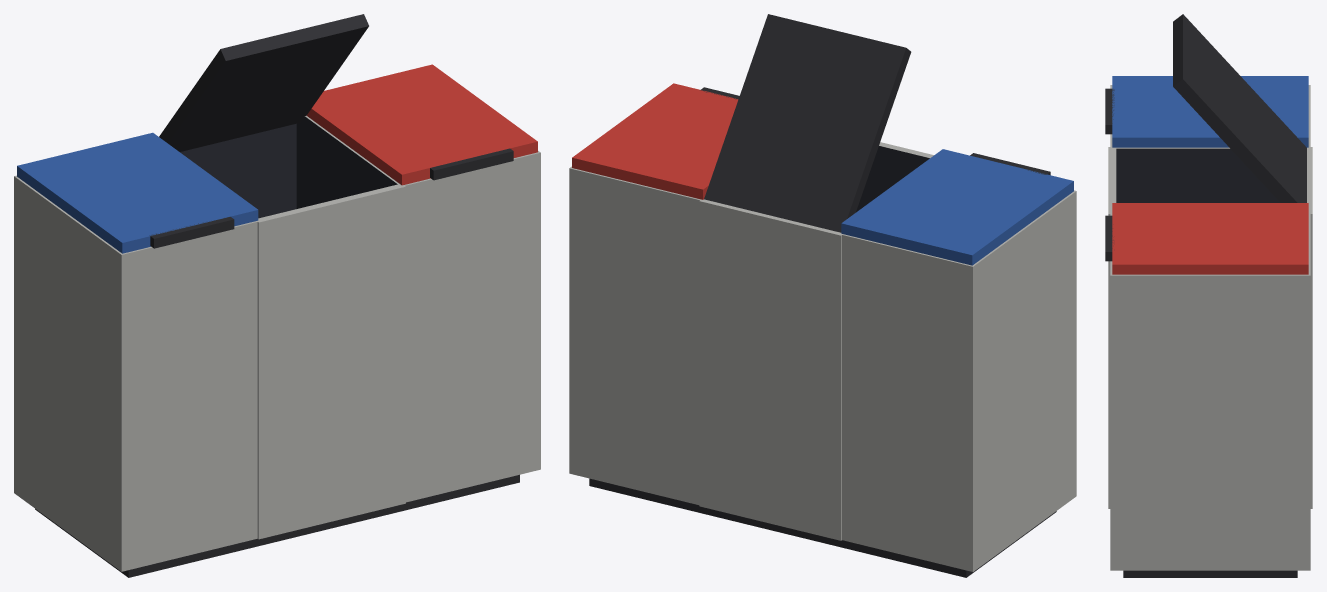
Rendered from FN_Bin_Recycling.glb.
The picture shows the model from 3 angles, left to right: view 1: azimuth 30°, elevation 25°; view 2: azimuth 150°, elevation 25°; view 3: azimuth 270°, elevation 25°; orthographic projection. The views are drawn at different scales.
Parts seen in each view (by area): view 1: FN_Bin_Recycling; view 2: FN_Bin_Recycling; view 3: FN_Bin_Recycling.
Boxes of the visible parts, left/top/right/bottom form: FN_Bin_Recycling: left=14, top=14, right=540, bottom=577; FN_Bin_Recycling: left=569, top=14, right=1076, bottom=577; FN_Bin_Recycling: left=1105, top=14, right=1312, bottom=577.
Size of the model in its own units: 0.9 by 0.9748 by 0.414.
Materials: 1 (1 with a texture image).
